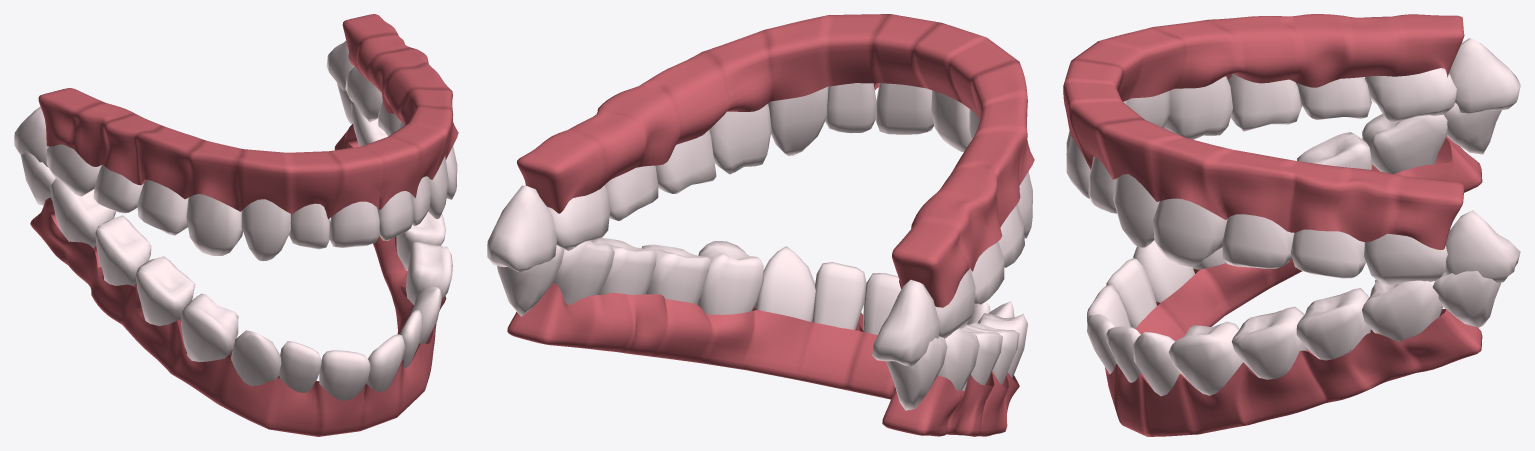
File: bookeasy-dental-chart.glb
The picture shows the model from 3 angles, left to right: view 1: azimuth 30°, elevation 25°; view 2: azimuth 150°, elevation 25°; view 3: azimuth 270°, elevation 25°; orthographic projection. The views are drawn at different scales.
Parts seen in each view (by area): view 1: Gingiva_Upper, Gingiva_Lower, Tooth_44, Tooth_45, Tooth_46, Tooth_14, Tooth_47, Tooth_13, Tooth_34, Tooth_43, Tooth_41, Tooth_15 (+19 smaller); view 2: Gingiva_Upper, Gingiva_Lower, Tooth_28, Tooth_34, Tooth_18, Tooth_33, Tooth_24, Tooth_32, Tooth_23, Tooth_35, Tooth_21, Tooth_37 (+17 smaller); view 3: Gingiva_Upper, Gingiva_Lower, Tooth_47, Tooth_24, Tooth_18, Tooth_35, Tooth_37, Tooth_36, Tooth_34, Tooth_17, Tooth_28, Tooth_27 (+18 smaller).
Part boxes in pixels (x1,y1,x2,y2): Gingiva_Upper: [38, 14, 458, 219]; Gingiva_Lower: [30, 124, 446, 436]; Tooth_44: [181, 293, 238, 362]; Tooth_45: [135, 256, 195, 325]; Tooth_46: [95, 215, 151, 286]; Tooth_14: [186, 194, 242, 255]; Tooth_47: [50, 178, 115, 247]; Tooth_13: [241, 199, 290, 261]; Tooth_34: [406, 242, 452, 304]; Tooth_43: [231, 330, 281, 385]; Tooth_41: [319, 350, 370, 400]; Tooth_15: [137, 179, 188, 235]; Gingiva_Upper: [517, 14, 1034, 307]; Gingiva_Lower: [507, 283, 1019, 436]; Tooth_28: [487, 185, 556, 273]; Tooth_34: [697, 241, 763, 314]; Tooth_18: [872, 279, 939, 366]; Tooth_33: [755, 246, 815, 322]; Tooth_24: [709, 104, 771, 174]; Tooth_32: [812, 262, 866, 329]; Tooth_23: [768, 86, 828, 156]; Tooth_35: [641, 244, 710, 304]; Tooth_21: [875, 83, 933, 134]; Tooth_37: [553, 241, 614, 304]; Gingiva_Upper: [1063, 14, 1464, 249]; Gingiva_Lower: [1105, 136, 1482, 436]; Tooth_47: [1362, 114, 1447, 174]; Tooth_24: [1153, 198, 1227, 266]; Tooth_18: [1449, 38, 1520, 113]; Tooth_35: [1231, 306, 1306, 379]; Tooth_37: [1362, 279, 1442, 341]; Tooth_36: [1296, 288, 1370, 360]; Tooth_34: [1168, 321, 1243, 395]; Tooth_17: [1364, 68, 1456, 122]; Tooth_28: [1445, 210, 1520, 283]; Tooth_27: [1364, 233, 1447, 284].
Bounding box in the file's own units: 5.18 × 4.1 × 5.21.
